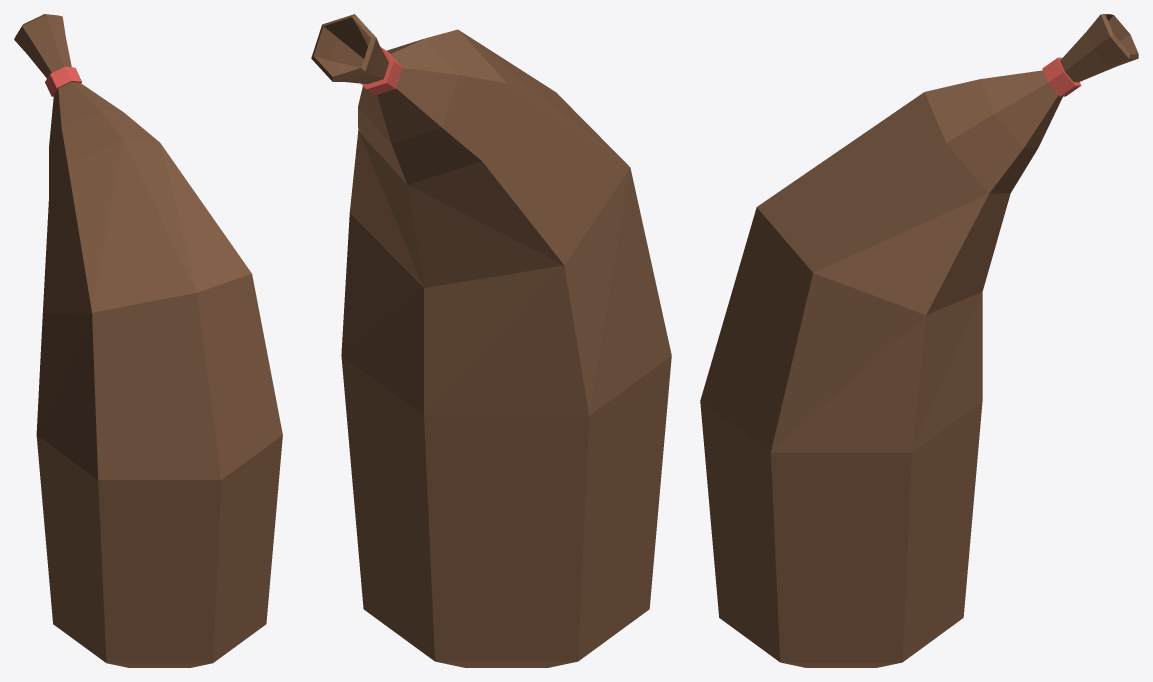
The model's file is Sack3.fbx.
3 renders of one model, left to right at view 1: azimuth 30°, elevation 25°; view 2: azimuth 150°, elevation 25°; view 3: azimuth 270°, elevation 25°, orthographic. The views are drawn at different scales.
Parts seen in each view (by area): view 1: Sack3; view 2: Sack3; view 3: Sack3.
Boxes of the visible parts, x1=… form: Sack3: x1=14, y1=14, x2=282, y2=667; Sack3: x1=311, y1=14, x2=671, y2=667; Sack3: x1=700, y1=14, x2=1138, y2=667.
Bounding box in the file's own units: 126 × 361 × 226.
